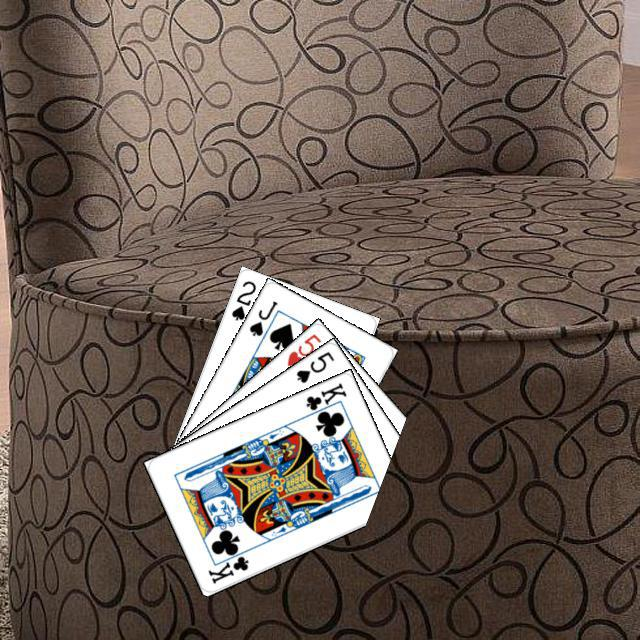2s: (226, 276, 258, 322)
5h: (282, 329, 323, 368)
5s: (291, 347, 336, 385)
Js: (244, 296, 279, 338)
Kc: (301, 377, 348, 419), (203, 544, 250, 586)
